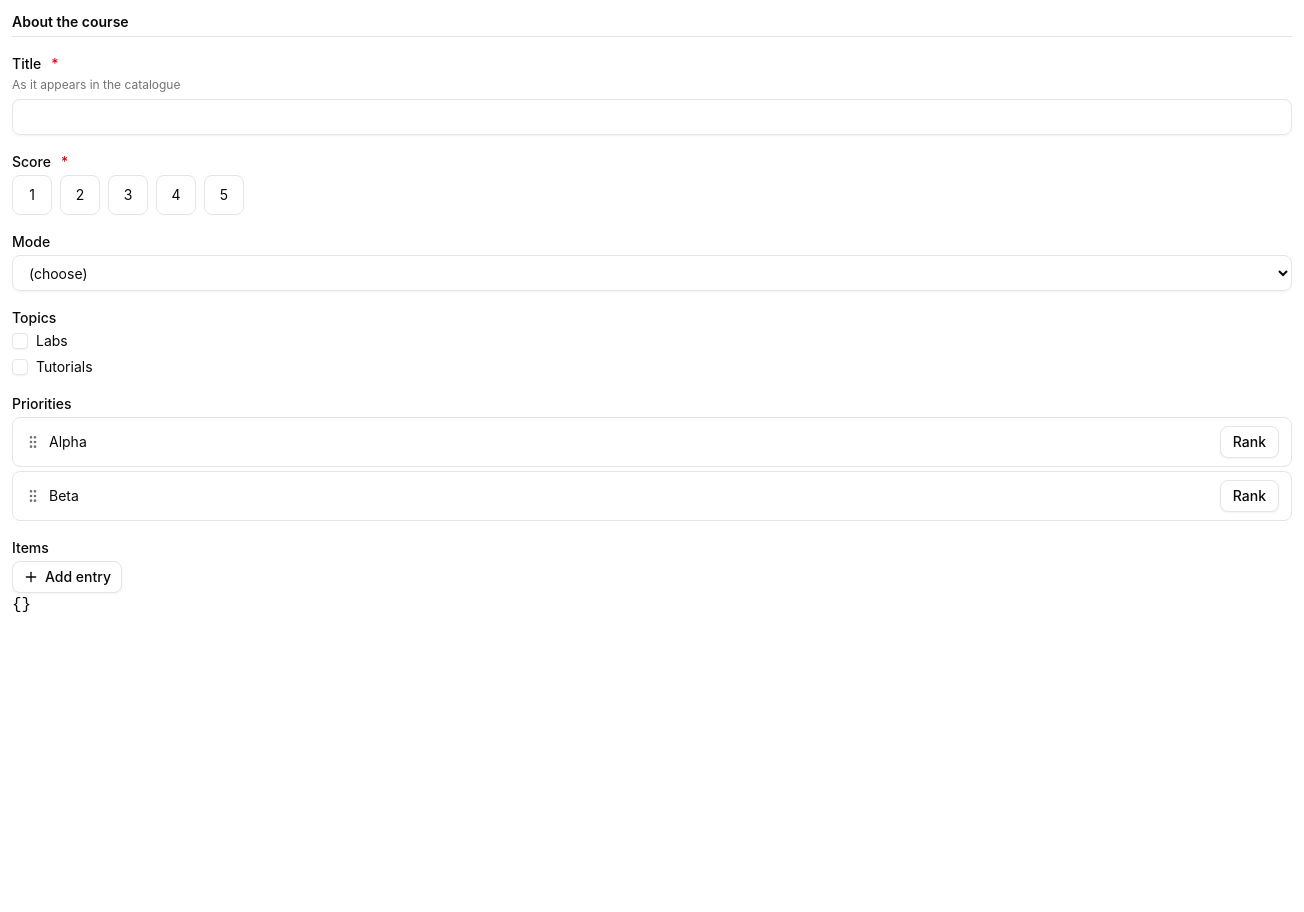
Test: FormRenderer › shows a conditional question only when its condition holds
Expected: the field labelled "Reason" is not shown
Select "Online" in the dropdown labelled "Mode" at [652, 273], box [12, 255, 1292, 291]
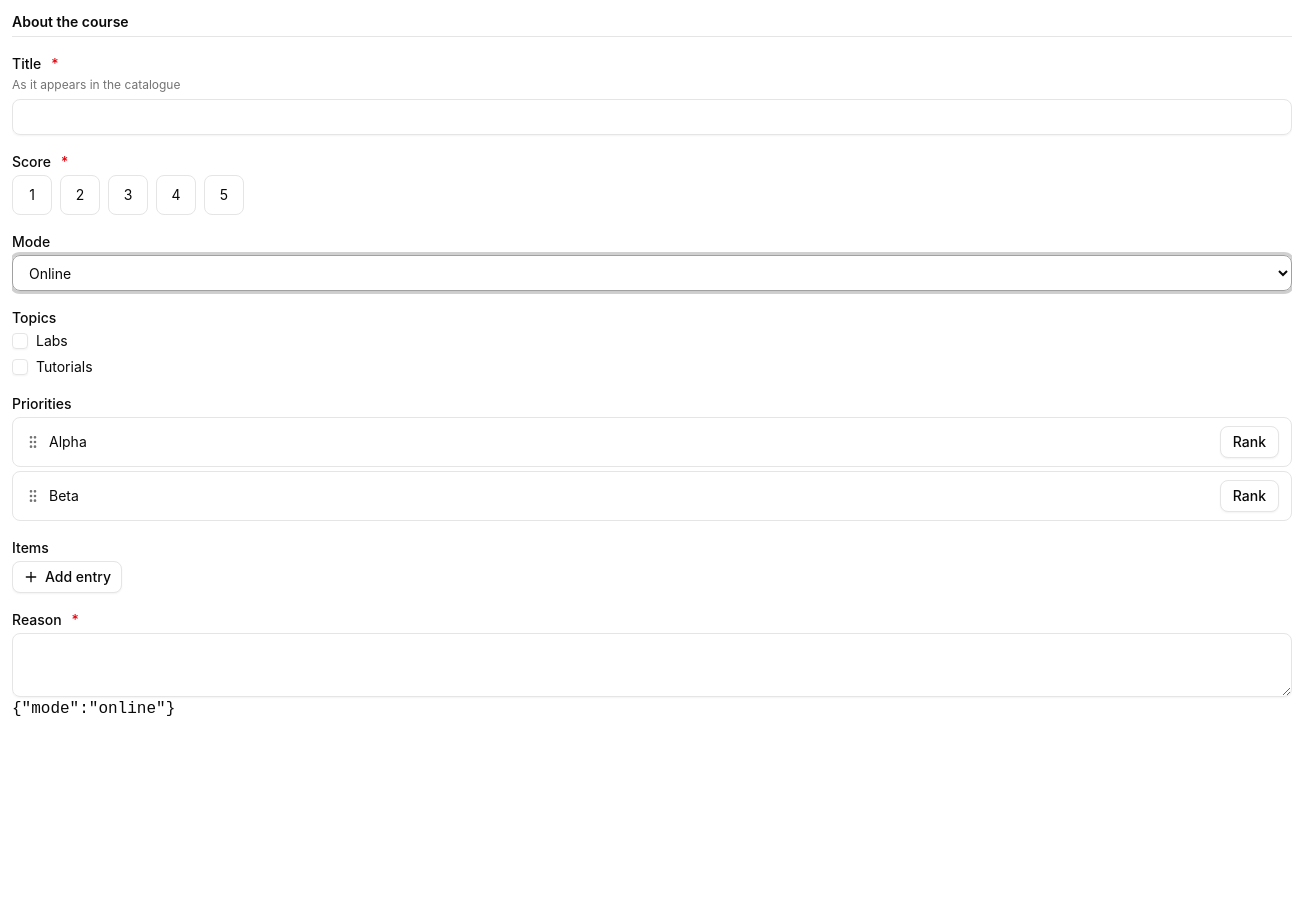
Now the text box labelled "Reason" is shown, box [12, 633, 1292, 697]
Select "On site" in the dropdown labelled "Mode" at [652, 273], box [12, 255, 1292, 291]
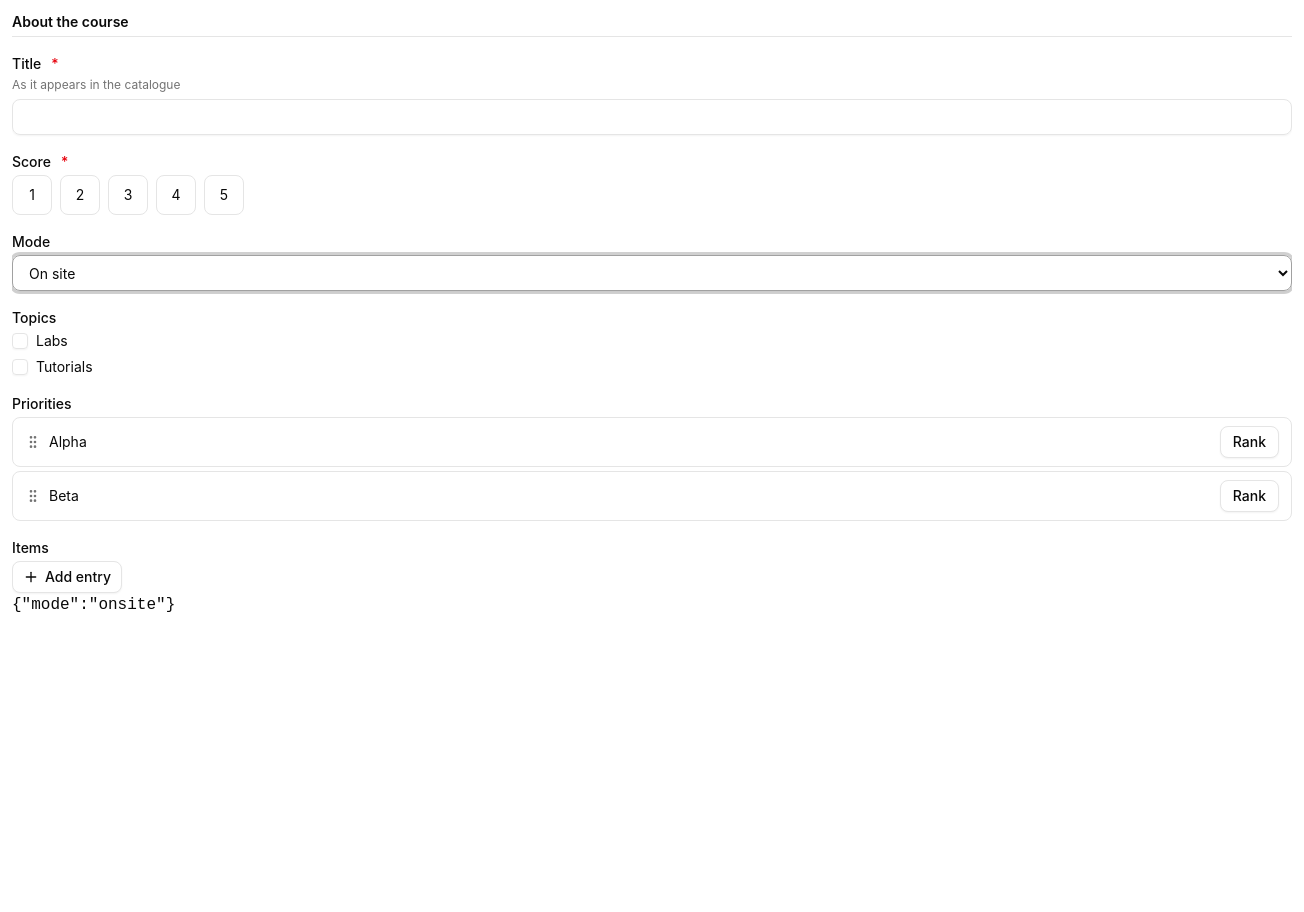
Now the label labelled "Reason" is gone
